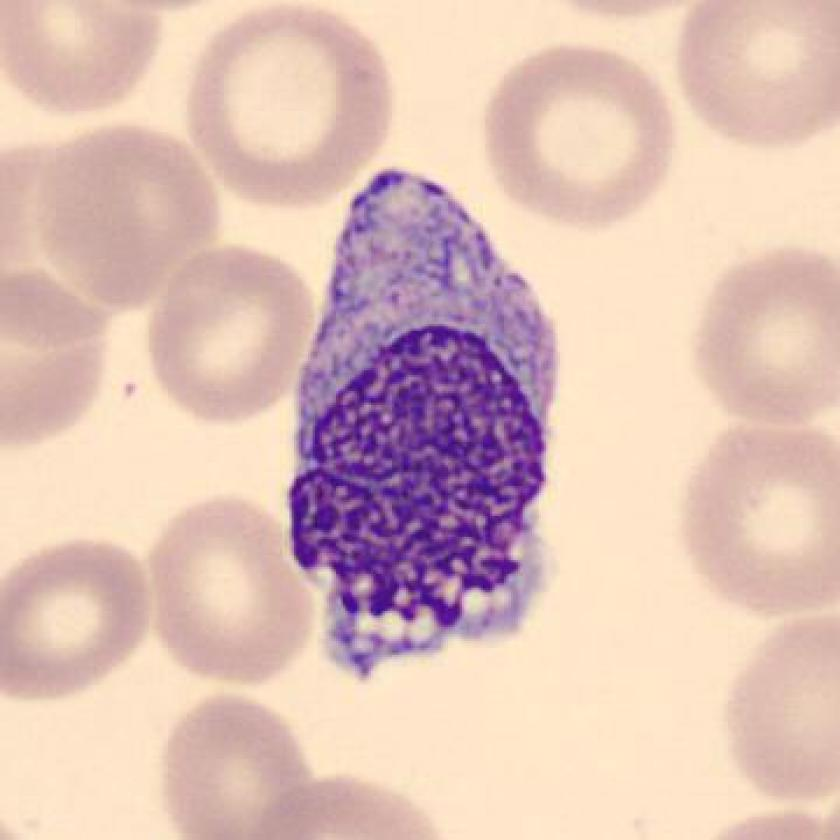monocyte: (262, 140, 594, 704)
